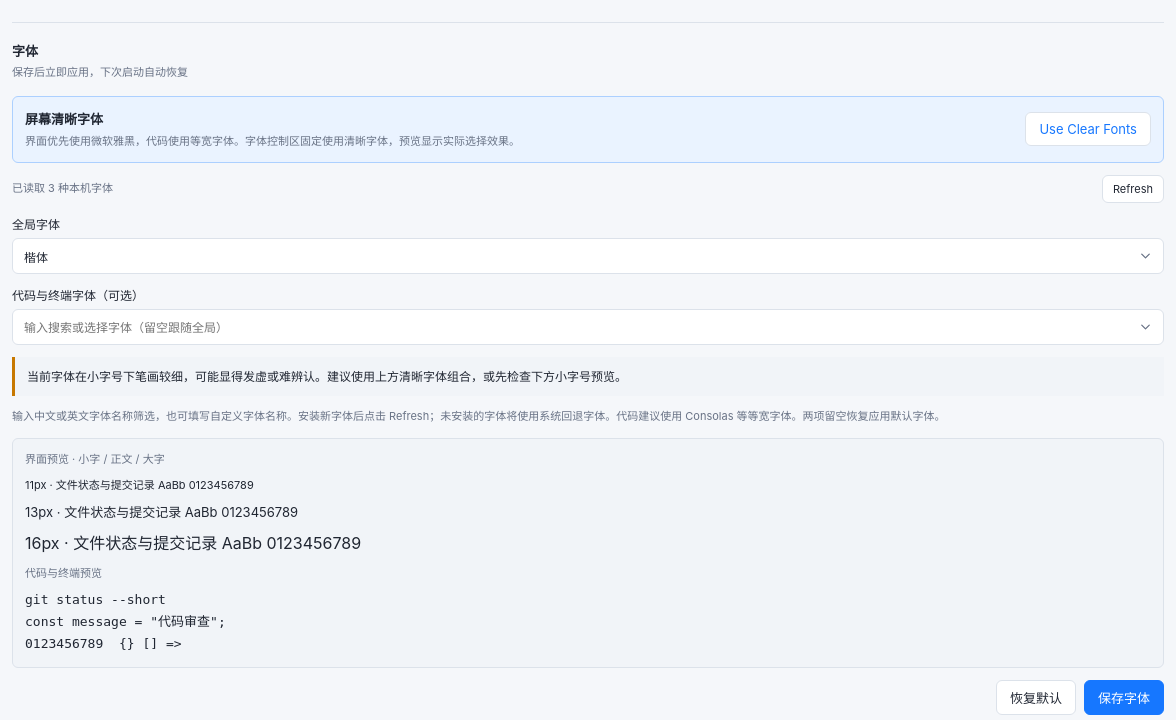
installed font selection › offers an explicit clear-font recovery from KaiTi and persists it only on request
What coordinates should you click on to do the following:
click the button with aria-label "使用清晰字体"
I would click on:
 (1088, 129)
Its box is [1025,112,1151,146].
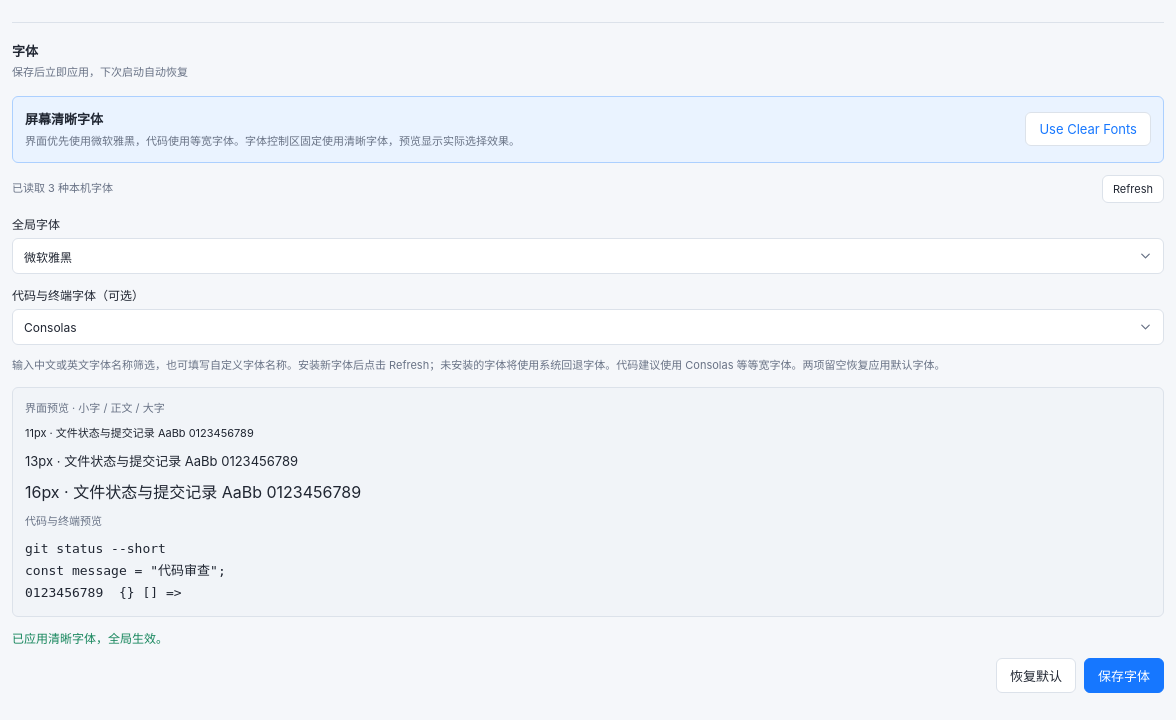
expect the text "已应用清晰字体" is shown: met, box [12,631,168,646]
expect the text "小字号下笔画较细" is gone: met
